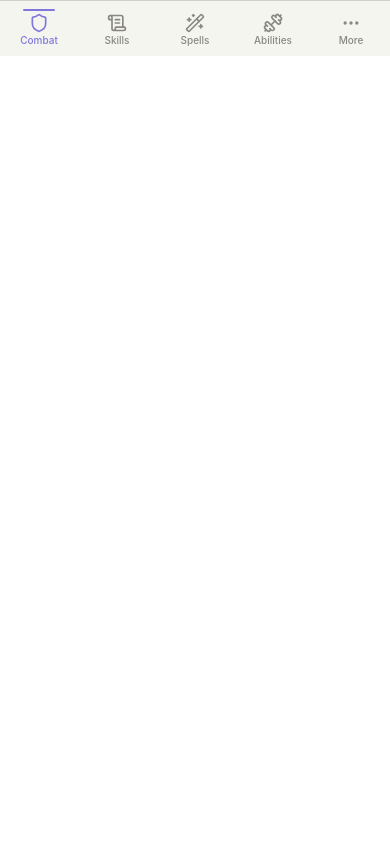
Test: MobileBottomBar › opens the More bottom sheet when More tab is clicked
expect the text "Equipment" is not shown: met
Click More
Click the tab with aria-label "More sections": (351,28) [312,8,389,48]
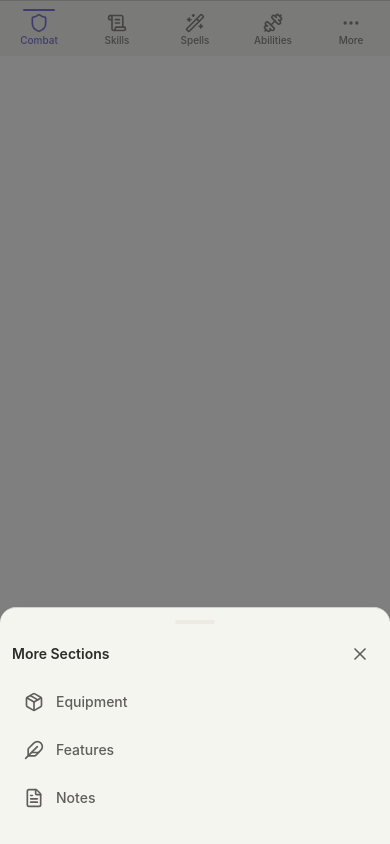
expect the button "Equipment" is shown: met, box [12,680,378,724]
expect the button "Features" is shown: met, box [12,728,378,772]
expect the button "Notes" is shown: met, box [12,776,378,820]
